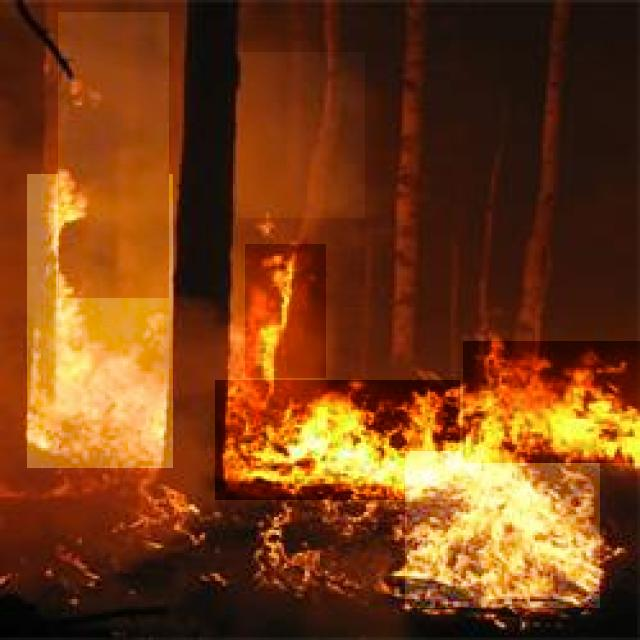Fire: (27, 174, 173, 468), (405, 451, 600, 608), (215, 380, 460, 500), (463, 342, 640, 464), (245, 244, 326, 378)
Smoke: (58, 12, 169, 298), (237, 52, 365, 218)
